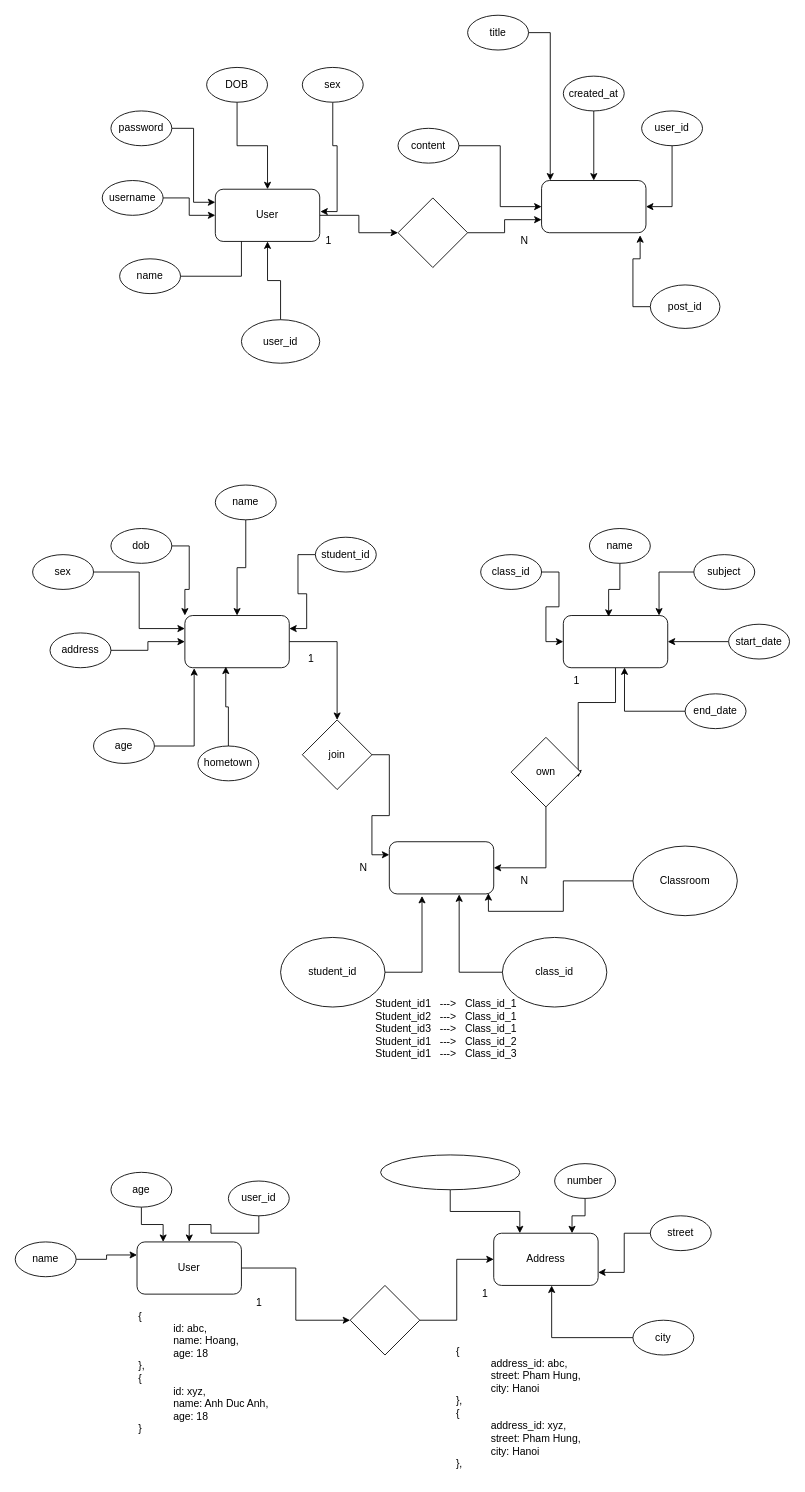
Image size: 805x1492. Some labels were removed from this diagram. Here are the shapes that lost their labels. From the top down, the centre of each, then its label:
[593,206]: Post
[432,232]: Sở hữu
[236,641]: Student
[615,641]: Class
[441,867]: Student_Class
[450,1172]: address_id === user_id
[384,1320]: Live in
